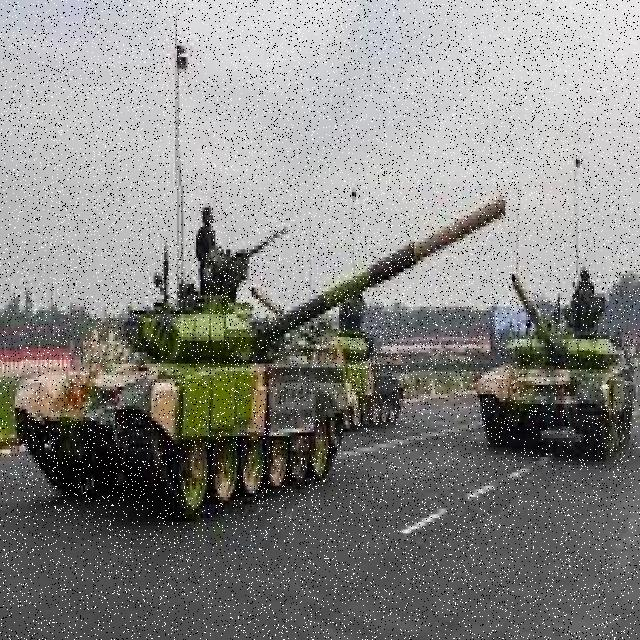MIL_MBT: (22, 186, 511, 512), (478, 276, 632, 440), (350, 310, 411, 424)
